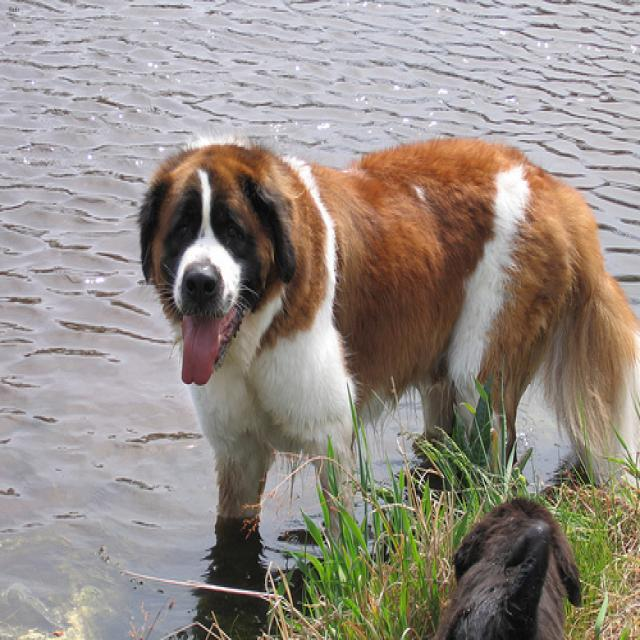dog-saint_bernard: (131, 125, 637, 548)
